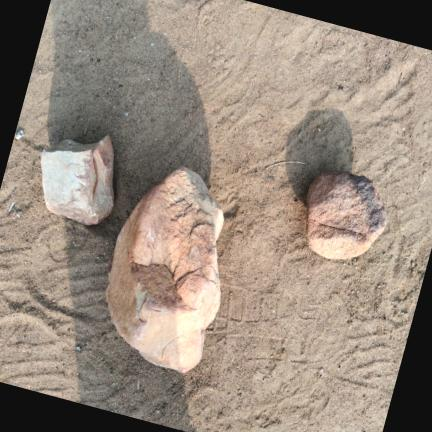Rocks: (106, 167, 223, 371), (307, 170, 387, 258), (41, 136, 114, 224), (16, 128, 24, 139), (14, 208, 22, 218)
